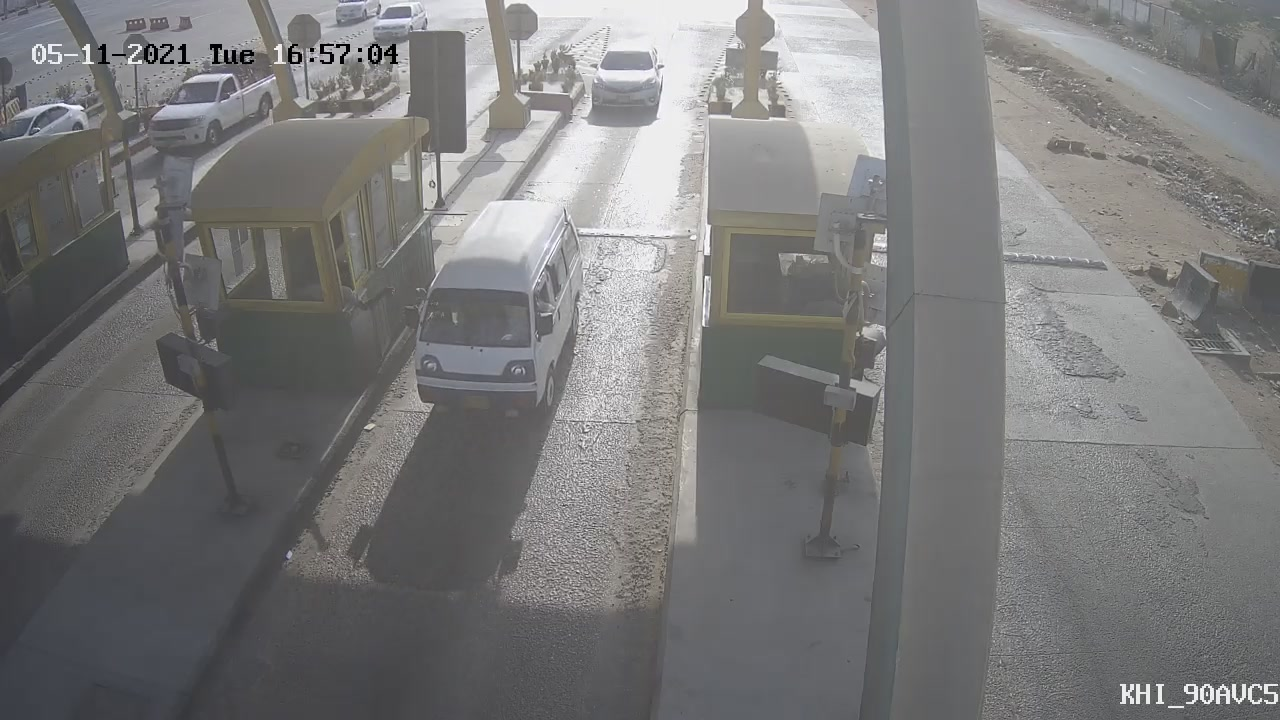F1: (382, 179, 605, 459), (573, 34, 678, 133)
